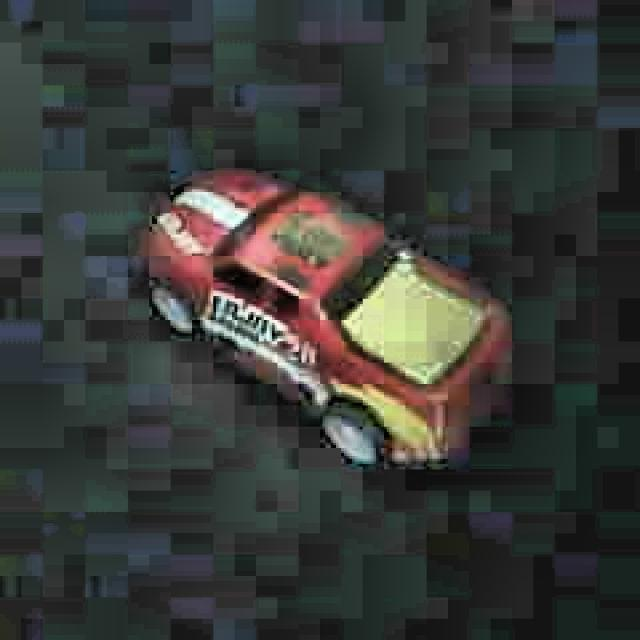car: (135, 156, 522, 484)
